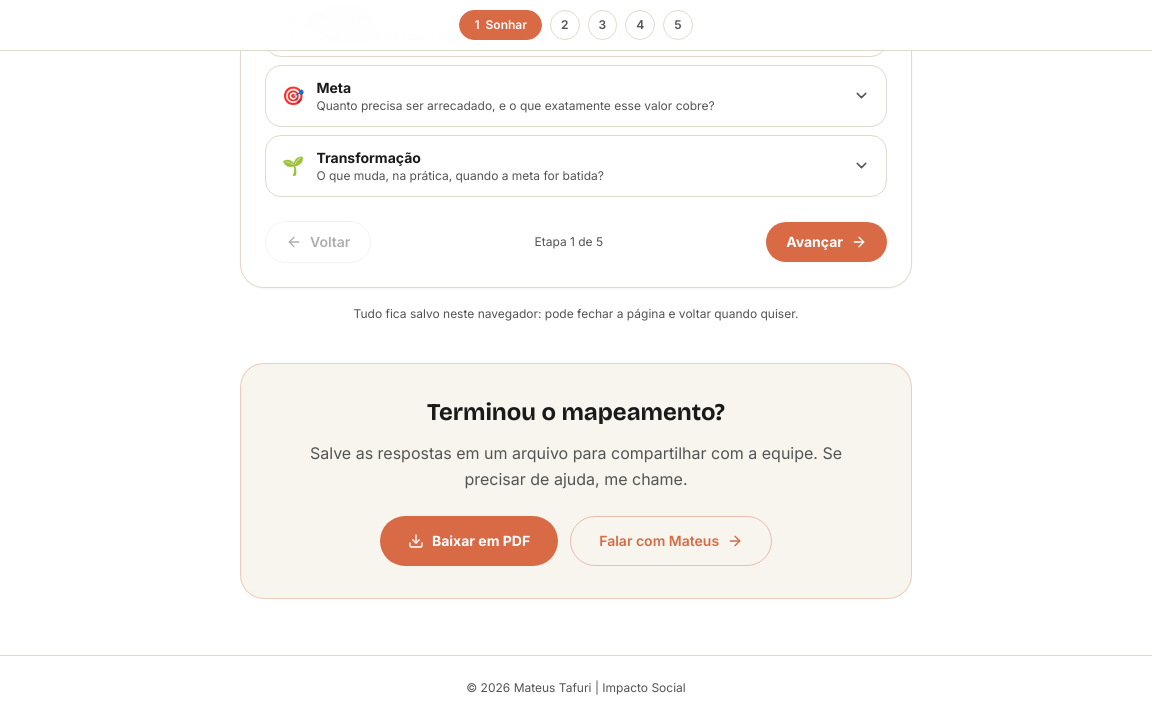
Test: portão do PDF no Mapeamento › pede o contato antes do PDF na primeira vez
(page scrolled)
Click the button "Baixar em PDF" at (469,541), box top-left (380, 516), bottom-right (558, 566)
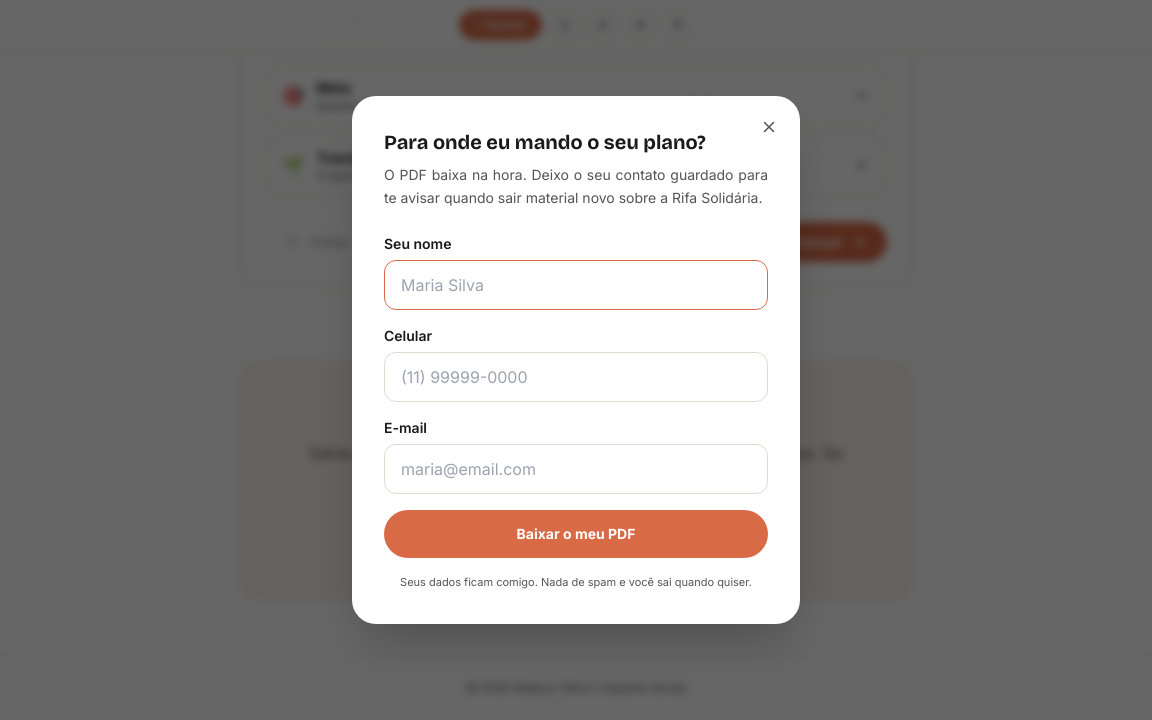
Expected: the dialog is shown, top-left (352, 96), bottom-right (800, 624)
